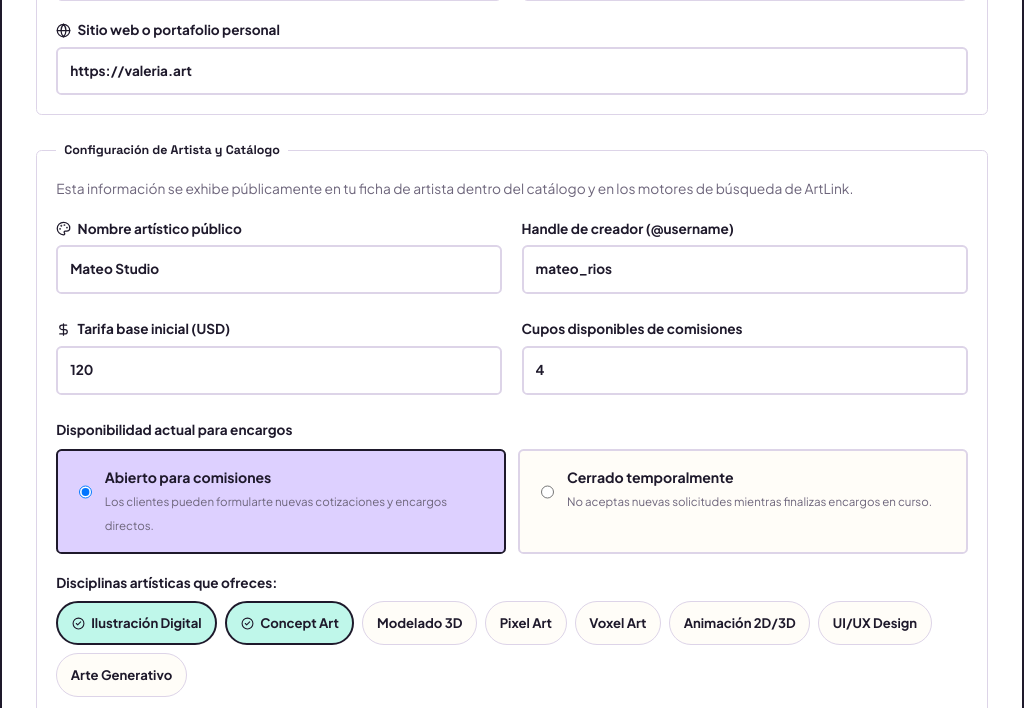
Test: ProfileSettingsSection - Modificación de Perfil › muestra campos adicionales y permite editar datos artísticos para usuarios con rol de artista
(page scrolled)
Expected: the text "Configuración de Artista y Catálogo" is shown, x1=56 y1=141 x2=288 y2=160
Expected: the field labelled "Nombre artístico público" holds "Mateo Studio", x1=56 y1=246 x2=502 y2=294
// Modificar tarifa base y nombre artístico
Type "150" into the number field labelled "Tarifa base inicial (USD)" at (279, 370), box x1=56 y1=346 x2=502 y2=395
(page scrolled)
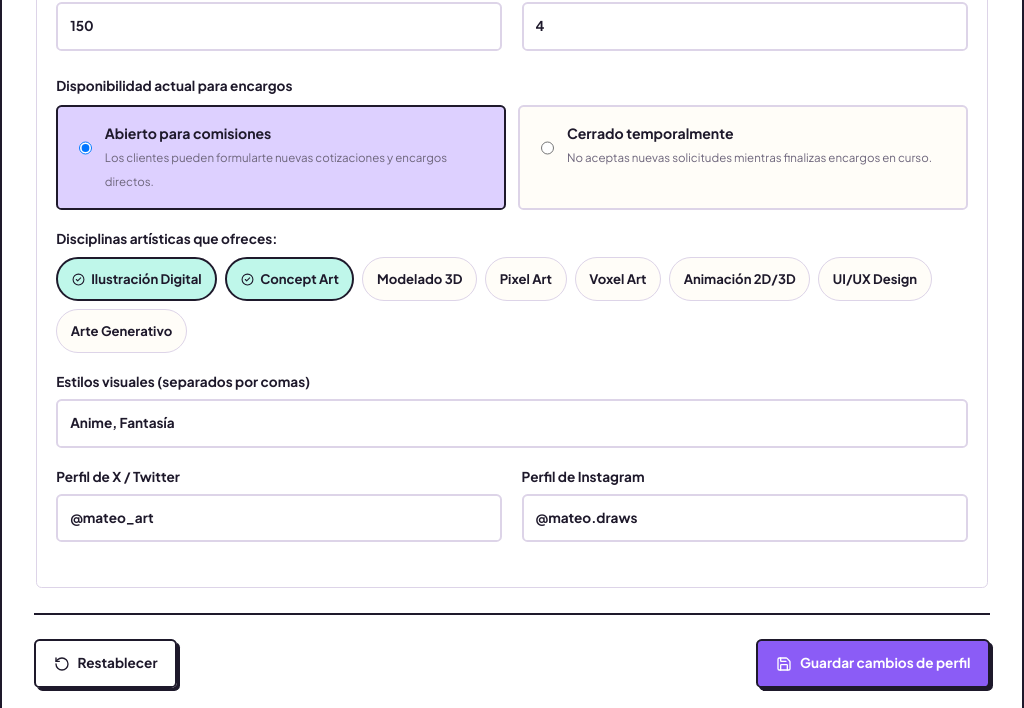
Click the button "Guardar cambios de perfil" at (873, 664), box x1=756 y1=639 x2=990 y2=688
(page scrolled)
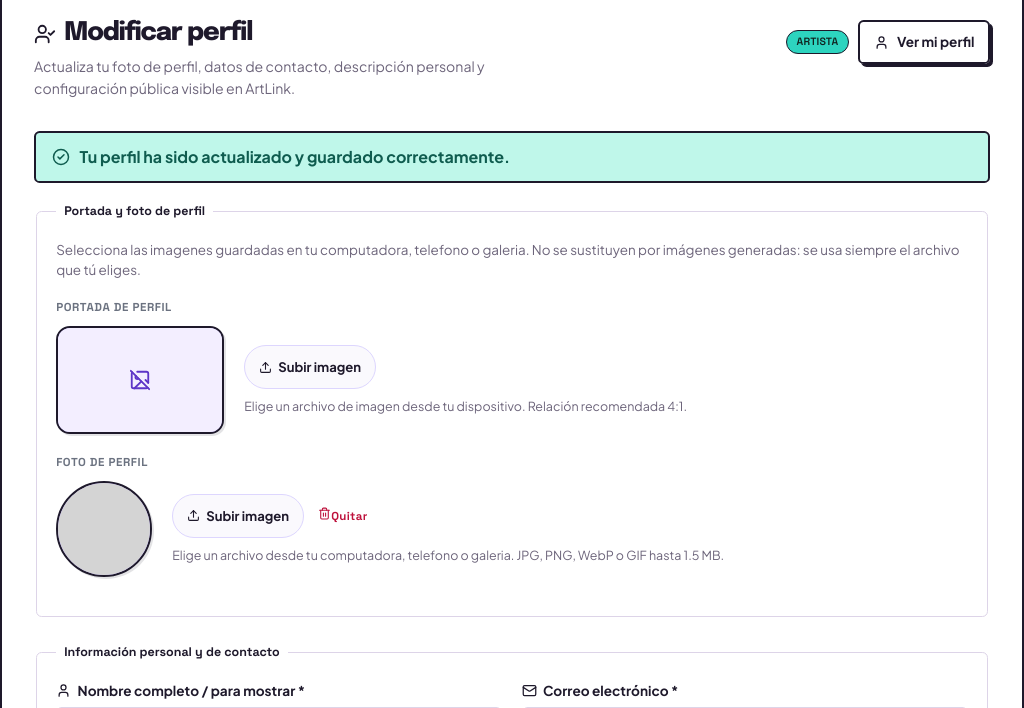
Expected: the text "Tu perfil ha sido actualizado y guardado correctamente." is shown, x1=80 y1=145 x2=510 y2=169
